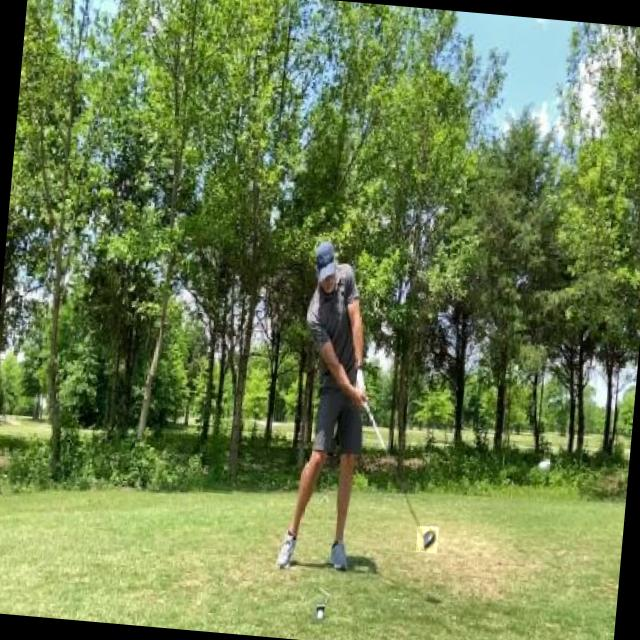club head: (416, 525, 438, 553)
